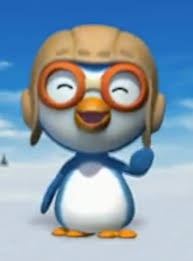Pororo: (20, 23, 166, 241)
